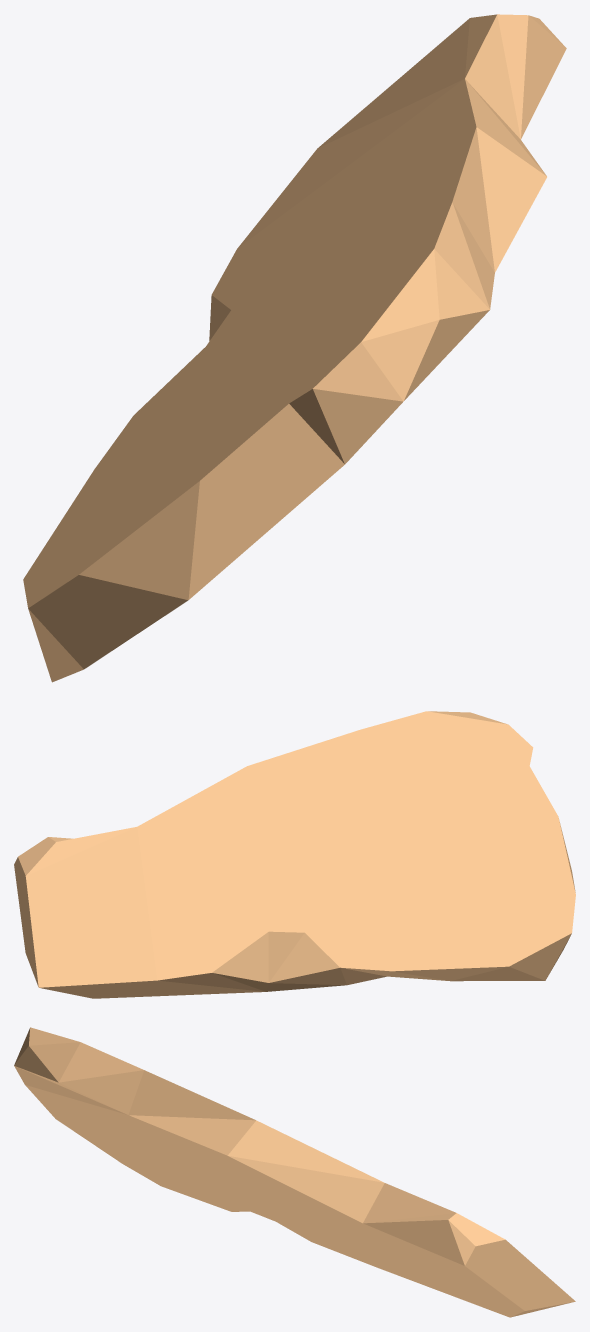
The picture shows the model from 3 angles, top to bottom: view 1: azimuth 30°, elevation 25°; view 2: azimuth 150°, elevation 25°; view 3: azimuth 270°, elevation 25°; orthographic projection. The views are drawn at different scales.
Parts seen in each view (by area): view 1: O_E_WT_R02; view 2: O_E_WT_R02; view 3: O_E_WT_R02.
Part boxes in pixels (box(x1,y1,x2,y2)): O_E_WT_R02: box(23, 14, 566, 682); O_E_WT_R02: box(14, 711, 575, 998); O_E_WT_R02: box(14, 1027, 575, 1317).
Bounding box in the file's own units: 1.44 × 0.6834 × 1.53.
